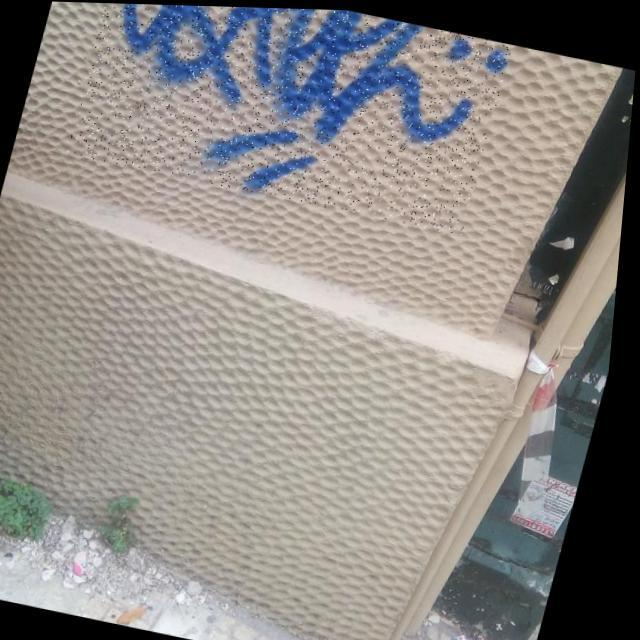-: (63, 2, 514, 233)
